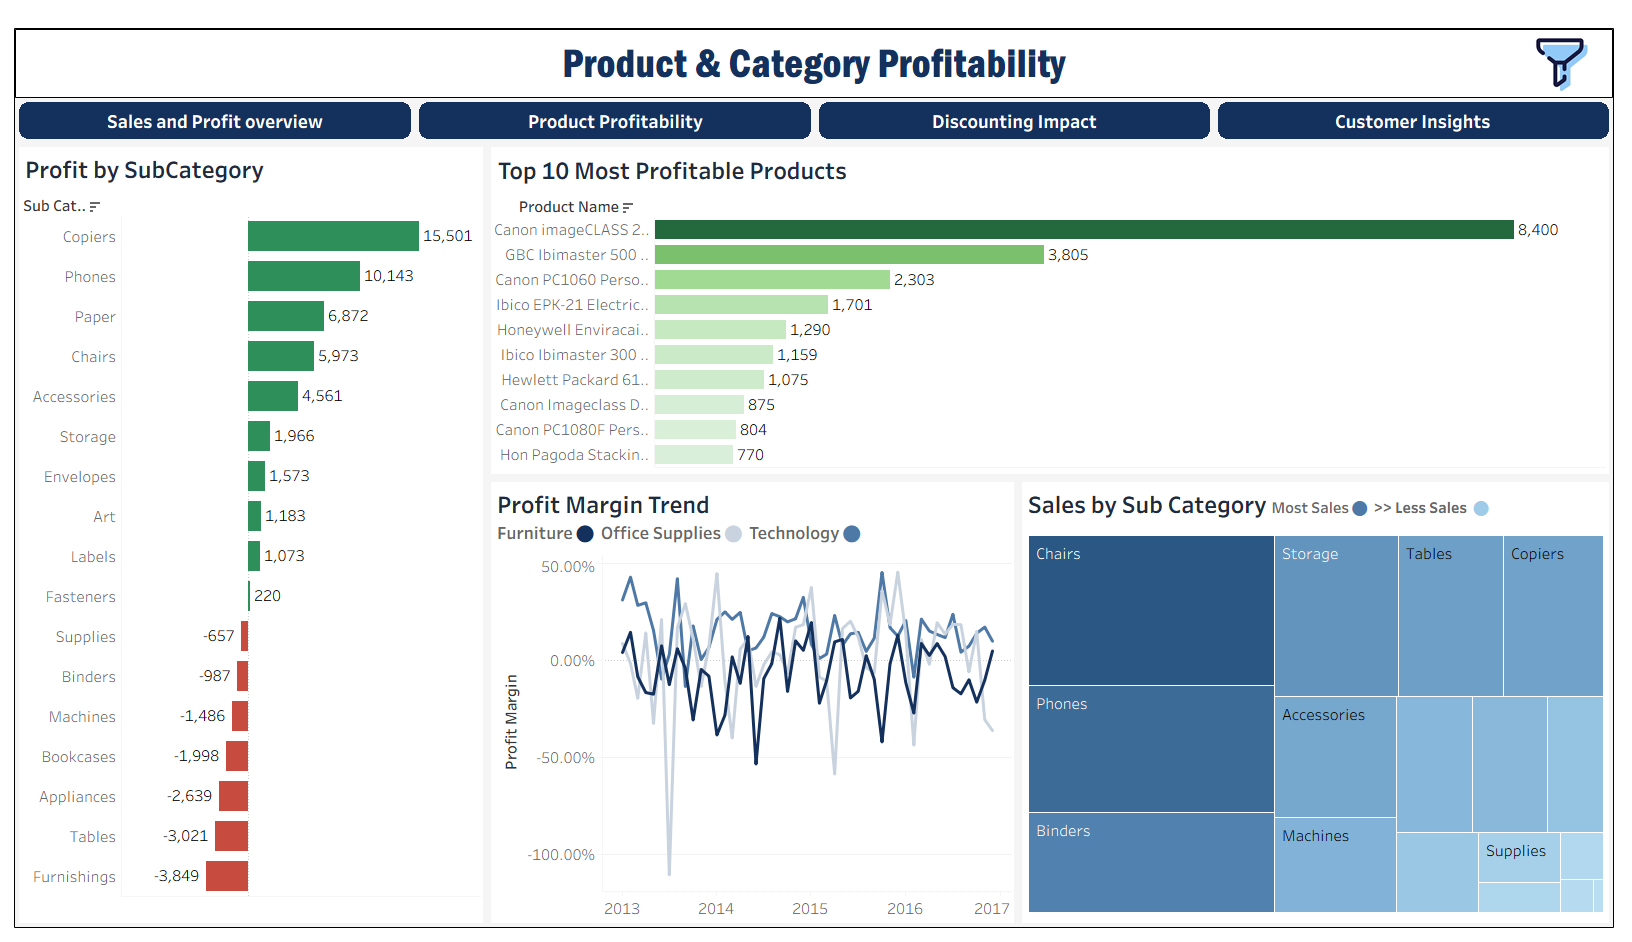

The page's visual inventory and layout, read from the dashboard file:
{"tool":"tableau","page":{"name":"Product & Category Profitability","canvas":[1600,900],"ordinal":2},"visuals":[{"type":"text","box":[1,1,1598,68.6]},{"type":"dashboard-object","box":[1505,2,80,63]},{"type":"dashboard-object","box":[1,70,400,45]},{"type":"dashboard-object","box":[401,70,400,45]},{"type":"dashboard-object","box":[801,70,399,45]},{"type":"dashboard-object","box":[1200,70,399,45]},{"type":"blank","box":[1308,80.6,280,35]},{"type":"worksheet","title":"Profit by SubCategory","mark":"Automatic","rows":["SubCategory"],"cols":["Profit"],"box":[1,115,472,784]},{"type":"worksheet","title":"Top 10 Most Profitable Products","mark":"Automatic","rows":["ProductName"],"cols":["Profit"],"box":[473,115,1126,335]},{"type":"text","box":[1308,115.6,280,38]},{"type":"parameter","param":"[Parameters].[Parameter 1773839578595330]","box":[1308,153.6,280,56]},{"type":"filter","title":"Profit by SubCategory","param":"[federated.0opk25x1w8ugs31a36b841grpmjb].[none:Segment:nk]","box":[1308,209.6,280,64]},{"type":"filter","title":"Profit by SubCategory","param":"[federated.0opk25x1w8ugs31a36b841grpmjb].[none:ShipMode:nk]","box":[1308,273.6,280,98]},{"type":"text","box":[1308,371.6,280,37]},{"type":"filter","title":"Profit by SubCategory","param":"[federated.0opk25x1w8ugs31a36b841grpmjb].[none:Category:nk]","box":[1308,408.6,280,61]},{"type":"worksheet","title":"Profit Margin Trend","mark":"Automatic","rows":["Calculation_0463223229980672"],"cols":["OrderDate"],"box":[473,450,531,449]},{"type":"worksheet","title":"Sales by Sub Category","mark":"Automatic","box":[1004,450,595,449]},{"type":"filter","title":"Profit by SubCategory","param":"[federated.0opk25x1w8ugs31a36b841grpmjb].[none:SubCategory:nk]","box":[1308,469.6,280,103]},{"type":"text","box":[1308,572.6,280,32]},{"type":"filter","title":"Profit by SubCategory","param":"[federated.0opk25x1w8ugs31a36b841grpmjb].[none:State:nk]","box":[1308,604.6,280,61]},{"type":"filter","title":"Profit by SubCategory","param":"[federated.0opk25x1w8ugs31a36b841grpmjb].[none:City:nk]","box":[1308,665.6,280,61]}]}

Visuals, with their boxes in screenshot pixels (x1, y1, x2, y2), scaled from the page's 1600x900 canvas onto the 1632x942 screenshot:
text: box=[1, 1, 1631, 73]
dashboard-object: box=[1535, 2, 1617, 68]
dashboard-object: box=[1, 73, 409, 120]
dashboard-object: box=[409, 73, 817, 120]
dashboard-object: box=[817, 73, 1224, 120]
dashboard-object: box=[1224, 73, 1631, 120]
blank: box=[1334, 84, 1620, 121]
"Profit by SubCategory" worksheet: box=[1, 120, 482, 941]
"Top 10 Most Profitable Products" worksheet: box=[482, 120, 1631, 471]
text: box=[1334, 121, 1620, 161]
parameter: box=[1334, 161, 1620, 219]
"Profit by SubCategory" filter: box=[1334, 219, 1620, 286]
"Profit by SubCategory" filter: box=[1334, 286, 1620, 389]
text: box=[1334, 389, 1620, 428]
"Profit by SubCategory" filter: box=[1334, 428, 1620, 492]
"Profit Margin Trend" worksheet: box=[482, 471, 1024, 941]
"Sales by Sub Category" worksheet: box=[1024, 471, 1631, 941]
"Profit by SubCategory" filter: box=[1334, 492, 1620, 599]
text: box=[1334, 599, 1620, 633]
"Profit by SubCategory" filter: box=[1334, 633, 1620, 697]
"Profit by SubCategory" filter: box=[1334, 697, 1620, 761]
